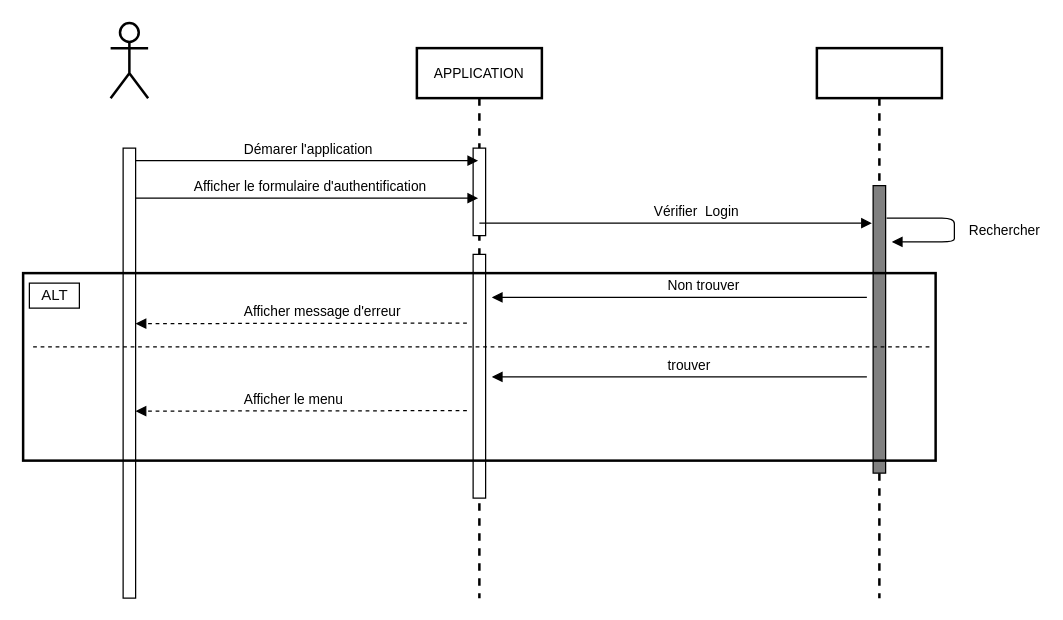
Some shapes in this 1063 by 620 pixel diagram are drawn without their labels. Here are the shapes that lost their labels. From the top down, the box of each, then its label:
(109, 21, 149, 99): User
(815, 46, 942, 599): BD
